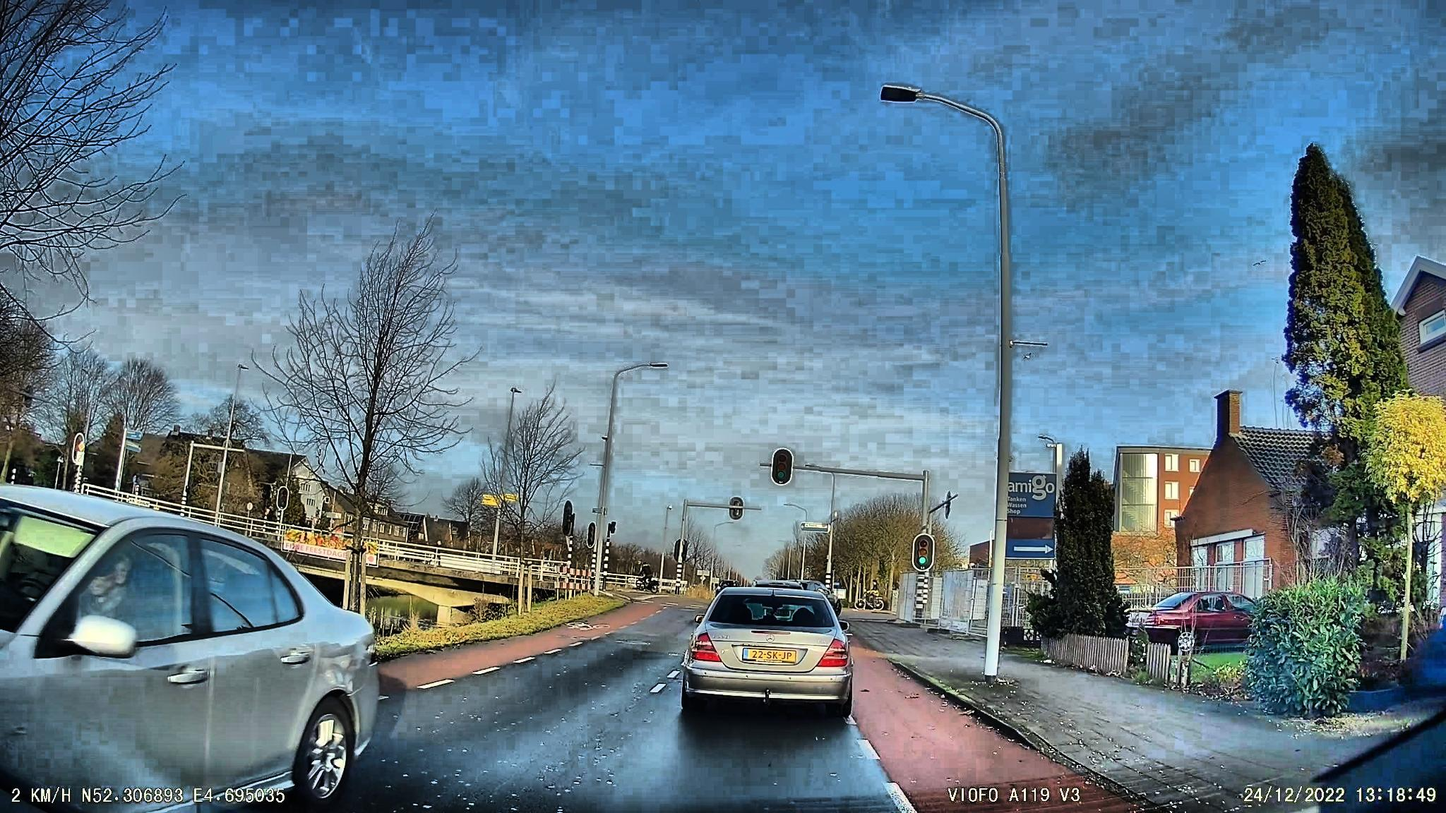Roads: (328, 606, 1143, 813)
